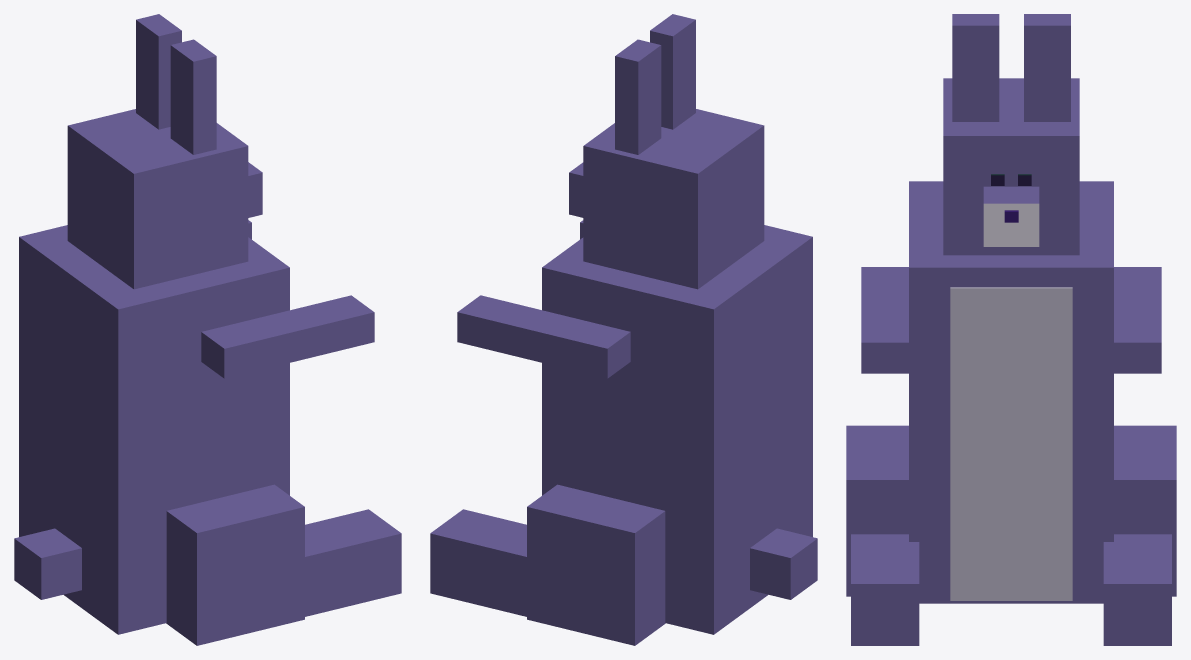
File: JugadorOk.fbx
3 views of the same model, side by side, from view 1: azimuth 30°, elevation 25°; view 2: azimuth 150°, elevation 25°; view 3: azimuth 270°, elevation 25° (orthographic). The views are drawn at different scales.
Visible parts, largest first — view 1: Player; view 2: Player; view 3: Player.
Boxes of the visible parts, box(x1,y1,x2,y2) form: Player: box(14, 14, 401, 645); Player: box(430, 14, 817, 645); Player: box(846, 14, 1176, 645).
Bounding box in the file's own units: 56.92 × 98.2 × 53.27.
Materials: 1 (1 with a texture image).
